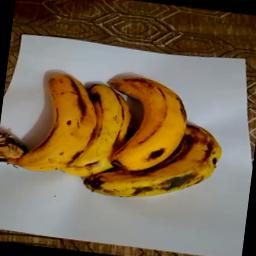Banana Unripe: (0, 65, 235, 213)
